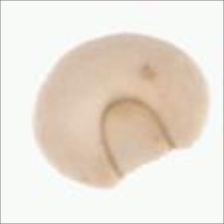L5: (96, 94, 177, 183)
L6: (30, 31, 209, 191)
